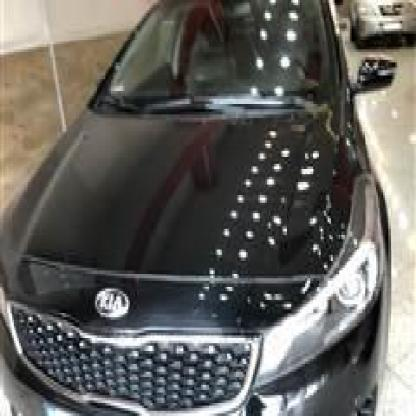Car: (0, 0, 395, 416), (345, 0, 416, 44)
